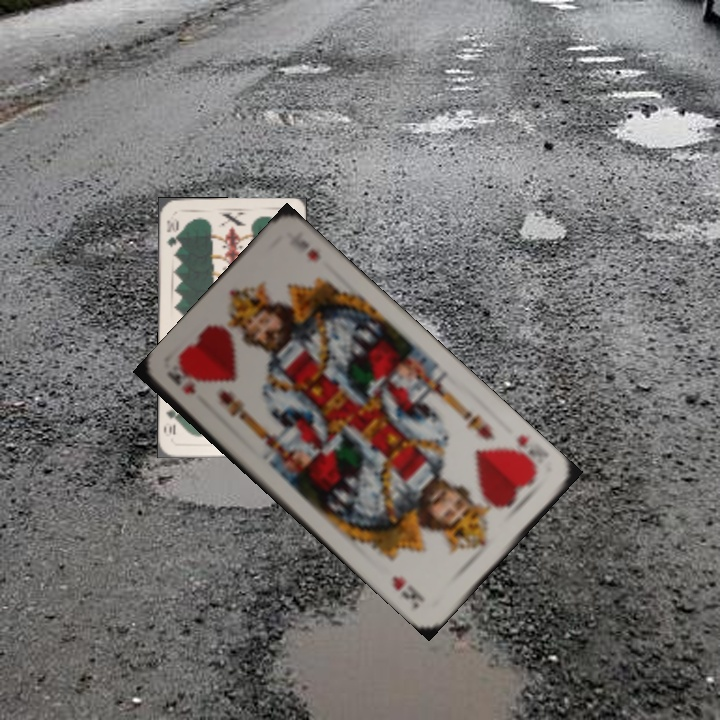G10: (162, 214, 181, 250)
HK: (507, 430, 541, 476), (164, 367, 199, 397)
